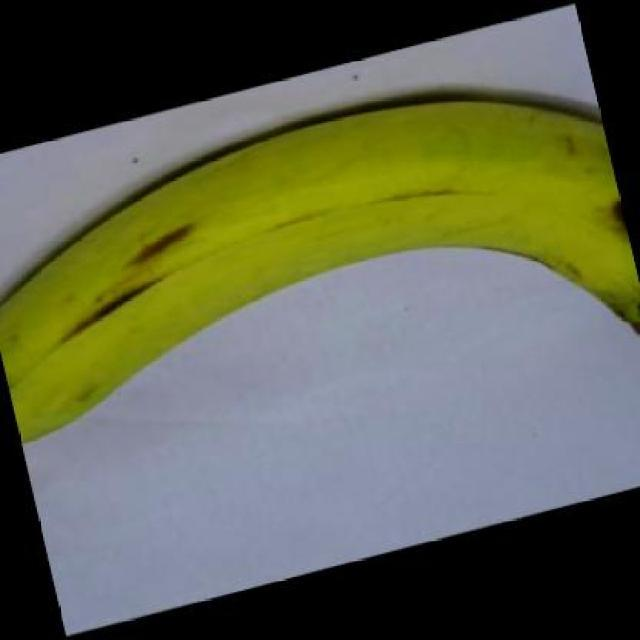unripe: (0, 98, 640, 459)
